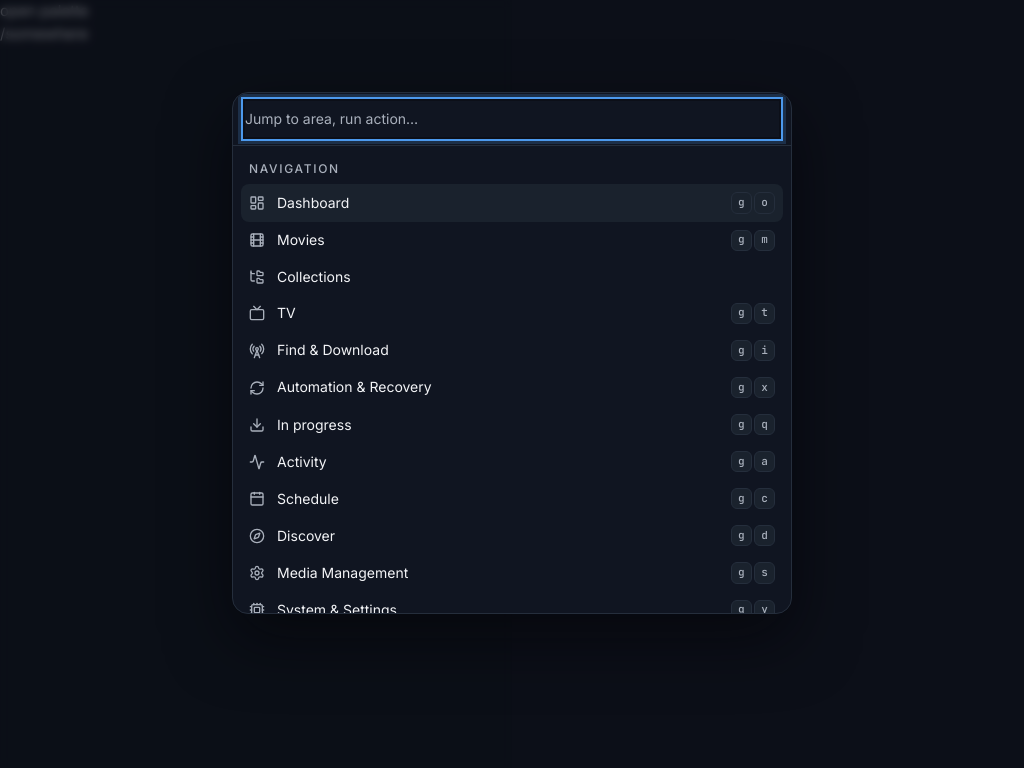
Test case: the command palette › choosing the Navigation entry TV goes to /tv and closes the palette
Type "TV" into the dropdown with placeholder "Jump to area, run action…" at (512, 119), box top-left (245, 101), bottom-right (779, 138)
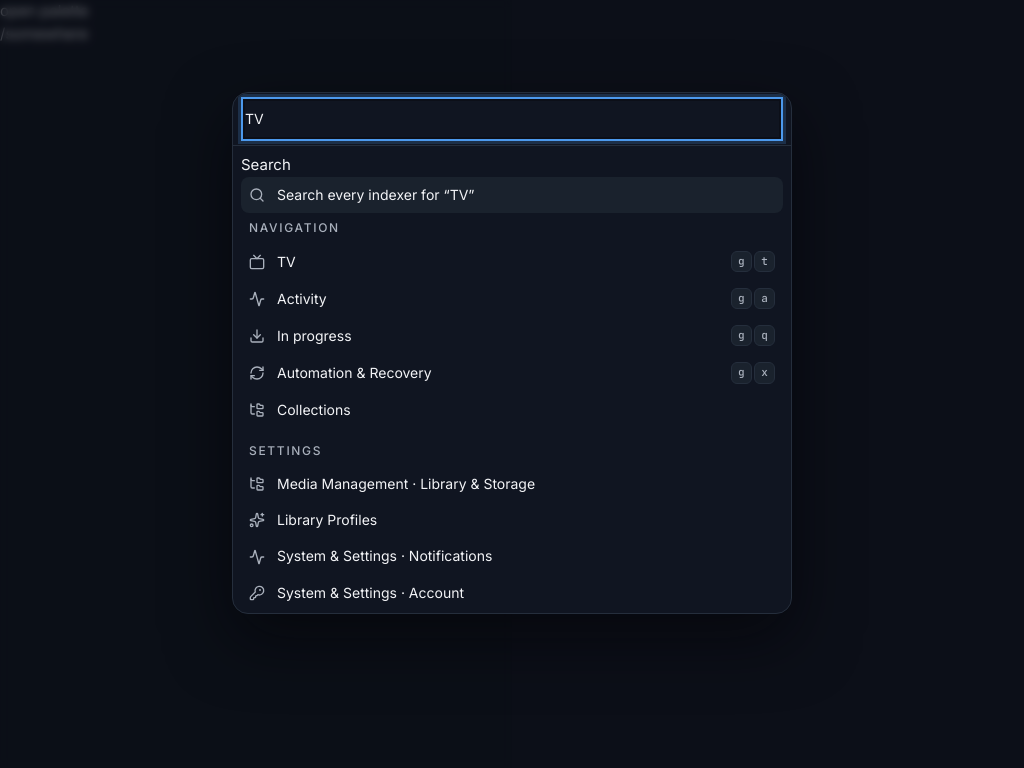
Click the text "TV" at (286, 261), box top-left (277, 253), bottom-right (296, 270)
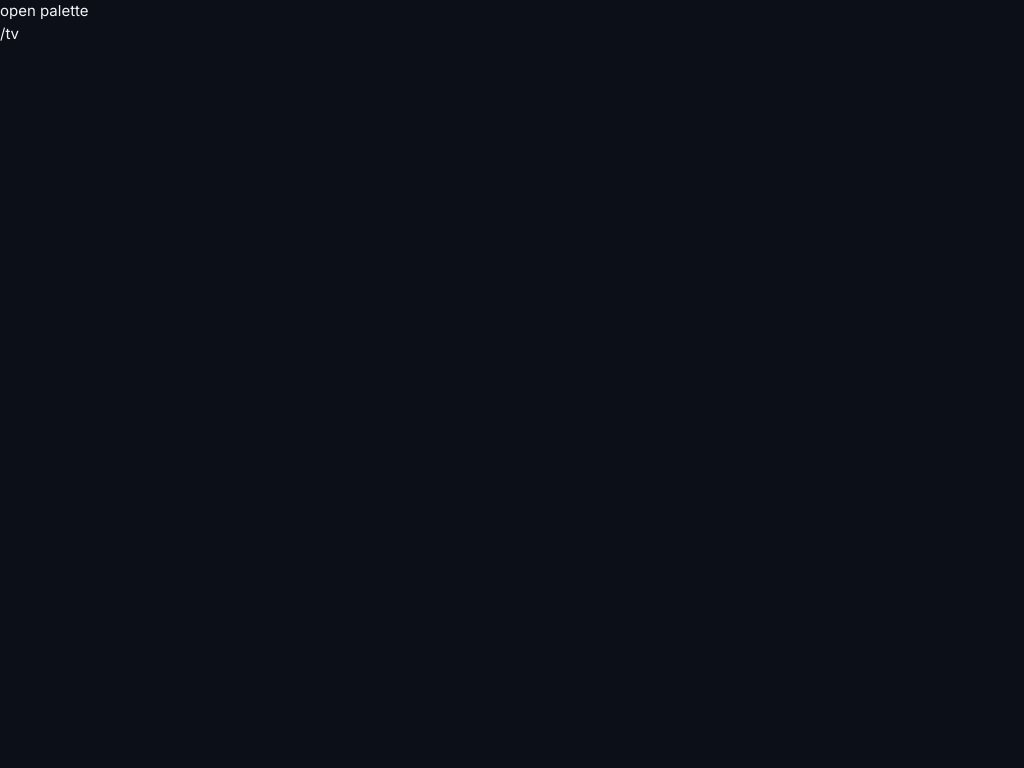
Expected: the text with test id "where" reads "/tv", top-left (0, 24), bottom-right (19, 42)
Expected: the dialog is gone
